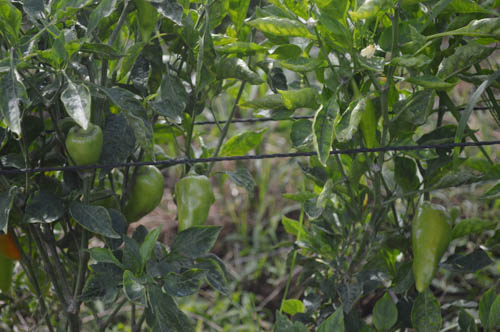ChiliPepper: (410, 200, 448, 295), (174, 175, 214, 236), (124, 168, 164, 227), (66, 130, 107, 166)
